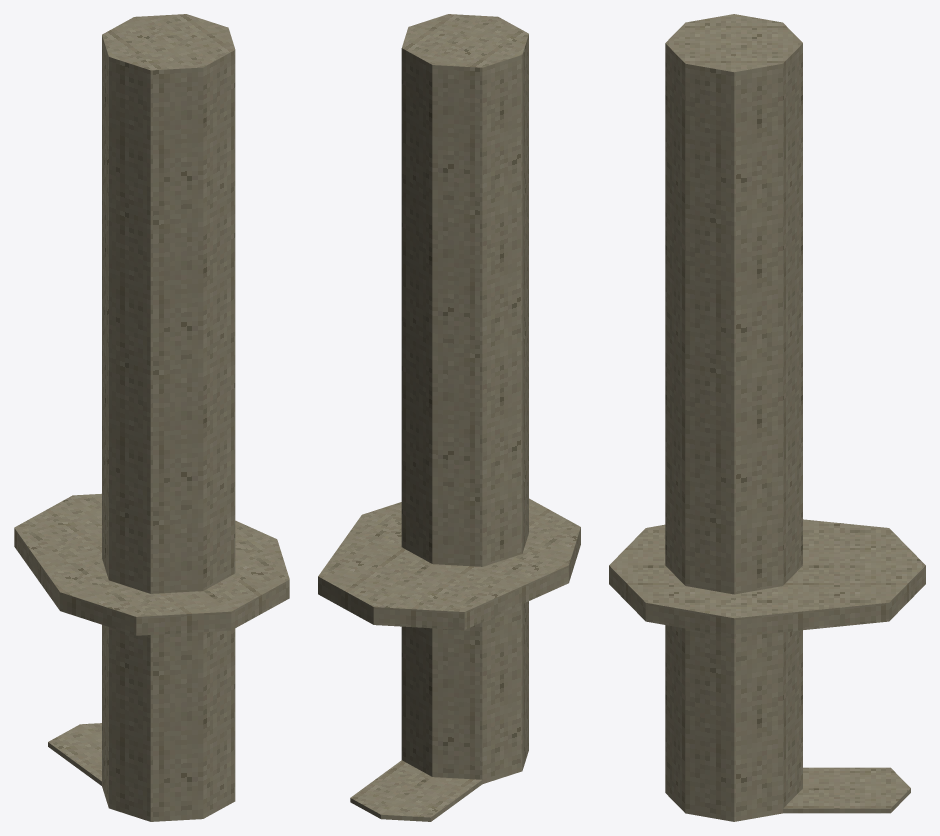
Rendered from delivery.glb.
The picture shows the model from 3 angles, left to right: view 1: azimuth 30°, elevation 25°; view 2: azimuth 150°, elevation 25°; view 3: azimuth 270°, elevation 25°; orthographic projection. The views are drawn at different scales.
Parts seen in each view (by area): view 1: Delivery; view 2: Delivery; view 3: Delivery.
Part boxes in pixels (x1,y1,x2,y2): Delivery: (14, 14, 289, 821); Delivery: (318, 14, 580, 821); Delivery: (609, 14, 925, 821).
Size of the model in its own units: 21.77 by 72 by 27.57.
Materials: 1 (1 with a texture image).
